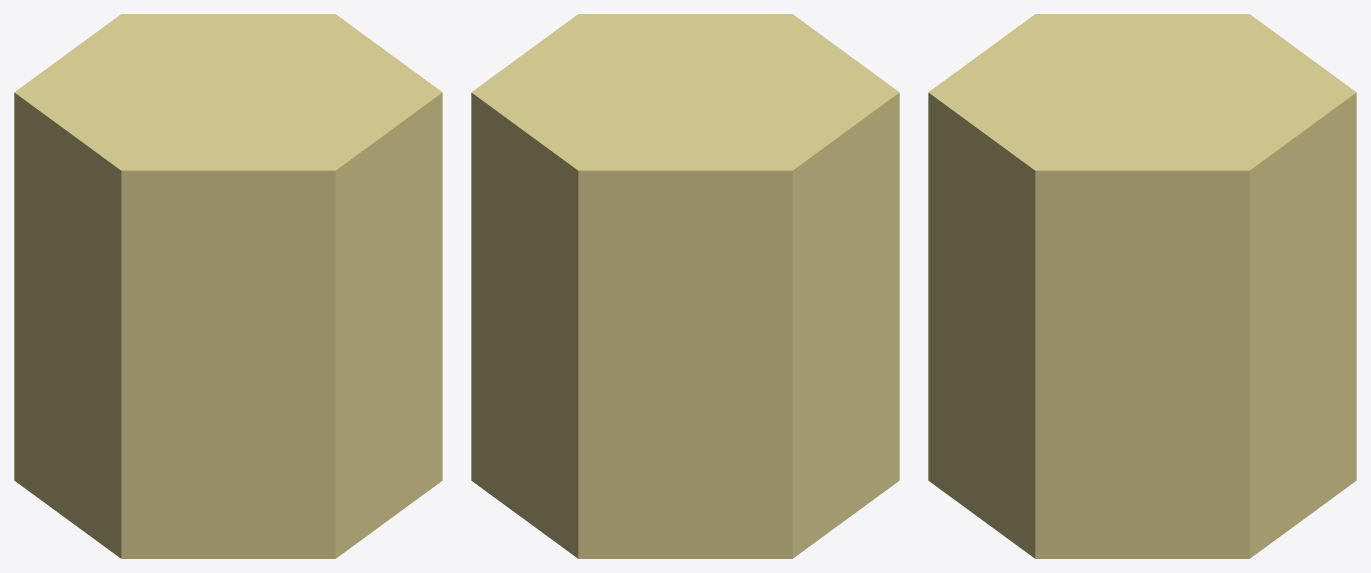
The model's file is Pillar.fbx.
3 renders of one model, left to right at view 1: azimuth 30°, elevation 25°; view 2: azimuth 150°, elevation 25°; view 3: azimuth 270°, elevation 25°, orthographic.
Visible parts, largest first — view 1: Pillar; view 2: Pillar; view 3: Pillar.
Boxes of the visible parts, x1,y1,x2,y2 form: Pillar: [14, 14, 442, 558]; Pillar: [471, 14, 899, 558]; Pillar: [928, 14, 1356, 558].
Size of the model in its own units: 1.73 by 2 by 2.
